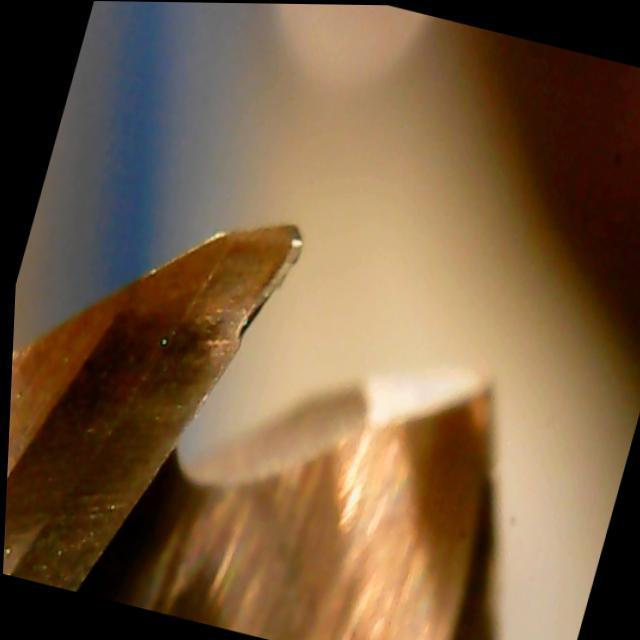Tool-wear-class-1: (118, 191, 331, 449)
